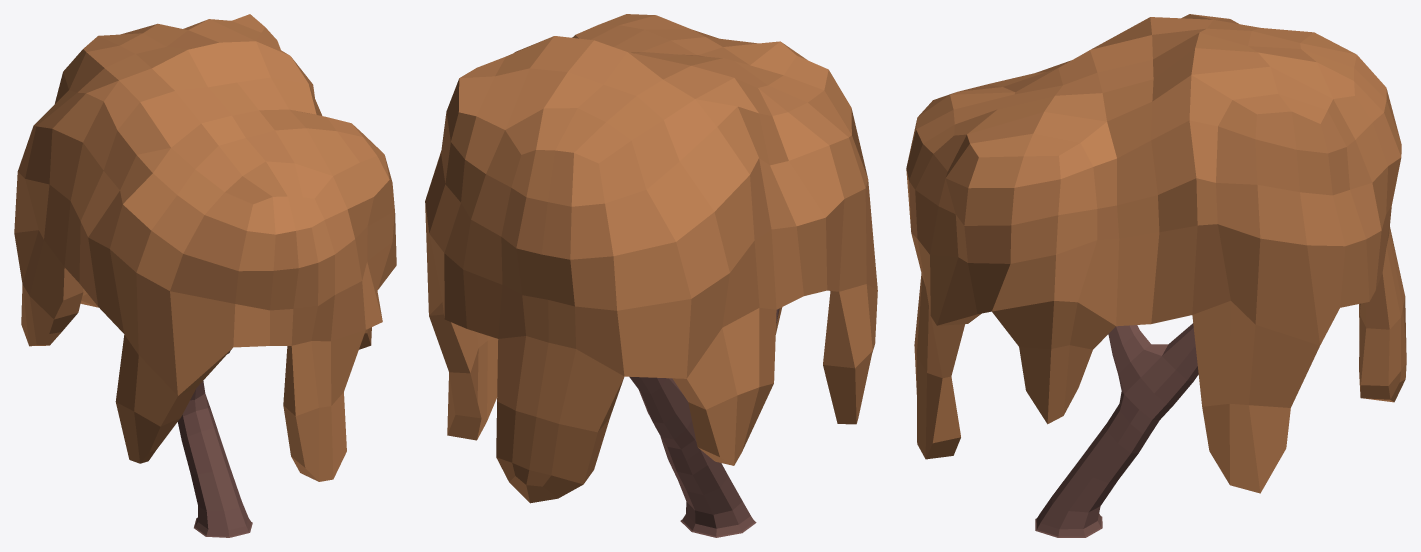
The model's file is willow_autumn_4.glb.
3 renders of one model, left to right at view 1: azimuth 30°, elevation 25°; view 2: azimuth 150°, elevation 25°; view 3: azimuth 270°, elevation 25°, orthographic. The views are drawn at different scales.
Parts seen in each view (by area): view 1: Willow_Autumn_4; view 2: Willow_Autumn_4; view 3: Willow_Autumn_4.
Part boxes in pixels (bbox=[...]): Willow_Autumn_4: bbox=[14, 14, 396, 537]; Willow_Autumn_4: bbox=[425, 14, 877, 537]; Willow_Autumn_4: bbox=[906, 14, 1406, 537].
Size of the model in its own units: 2.19 by 3.39 by 3.04.
